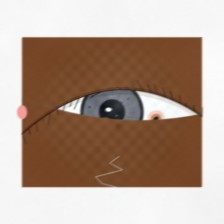foreign_body_visible: (97, 132, 134, 161)
